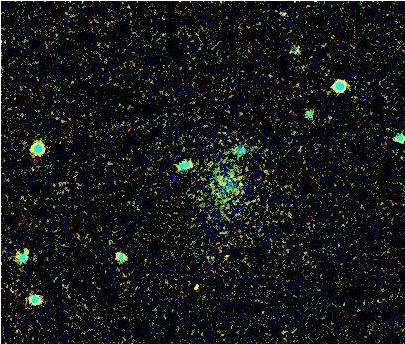star: (181, 272, 211, 302)
